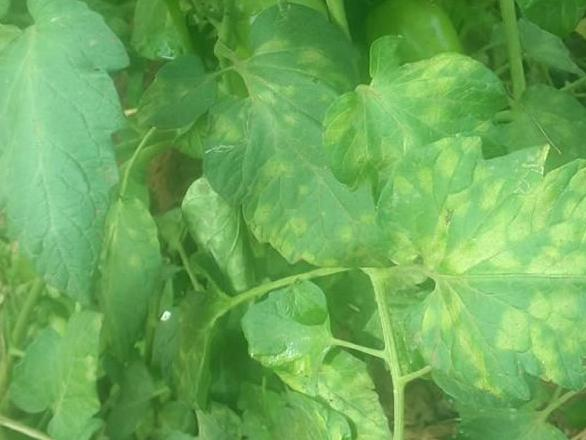Tomato mold leaf: (395, 133, 586, 405), (197, 21, 392, 268), (0, 9, 129, 306), (334, 44, 492, 207), (10, 313, 103, 440)
